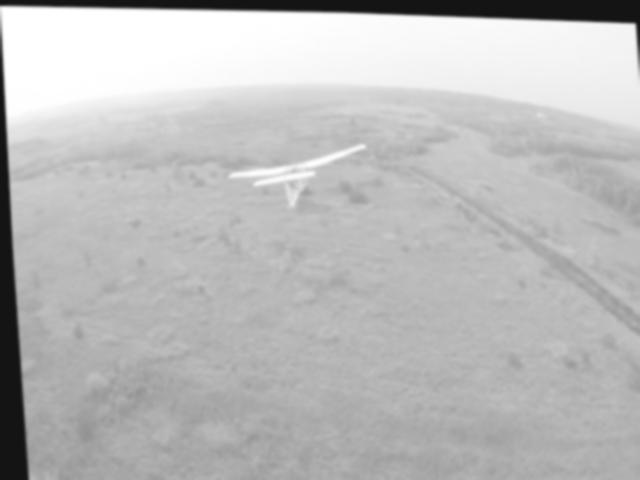hedef: (217, 127, 380, 222)
